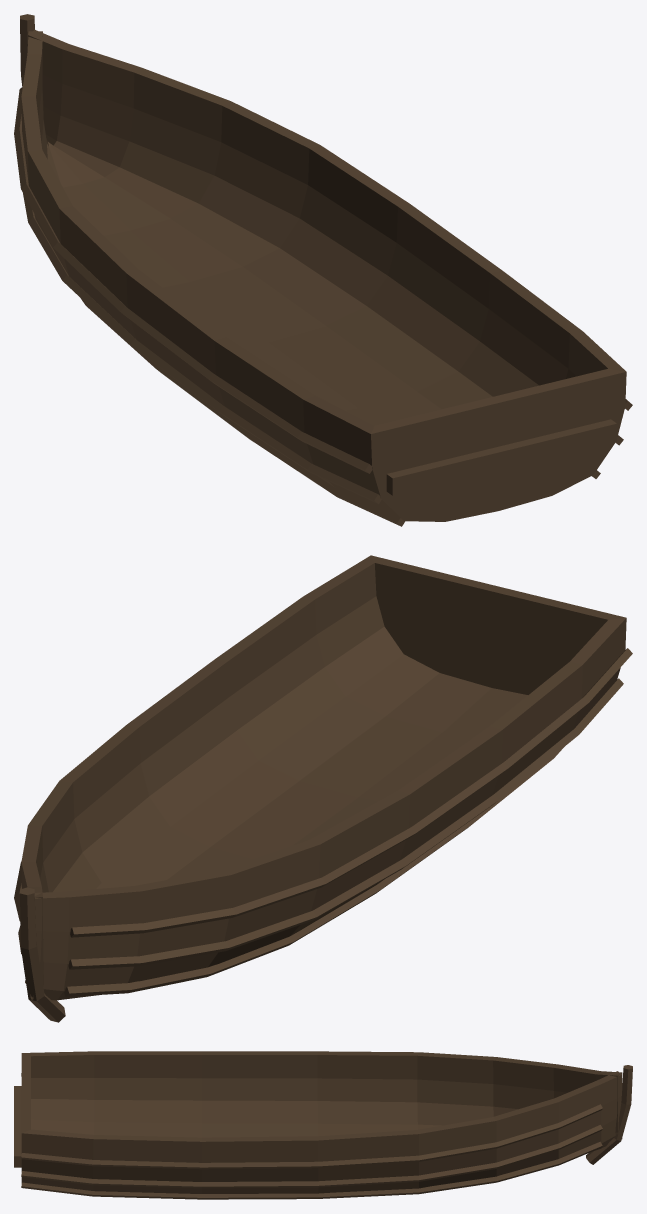
The model's file is BoatShell.glb.
3 renders of one model, top to bottom at view 1: azimuth 30°, elevation 25°; view 2: azimuth 150°, elevation 25°; view 3: azimuth 270°, elevation 25°, orthographic. The views are drawn at different scales.
Parts seen in each view (by area): view 1: BoatShell; view 2: BoatShell; view 3: BoatShell.
Part boxes in pixels (x1=…): BoatShell: x1=14, y1=14, x2=632, y2=526; BoatShell: x1=14, y1=555, x2=632, y2=1022; BoatShell: x1=14, y1=1051, x2=632, y2=1199.
Size of the model in its own units: 5.74 by 2.97 by 15.97.
